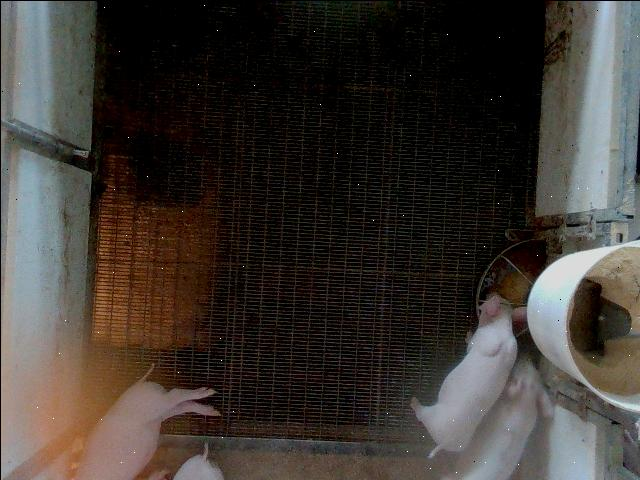pig-5: (442, 355, 552, 479)
